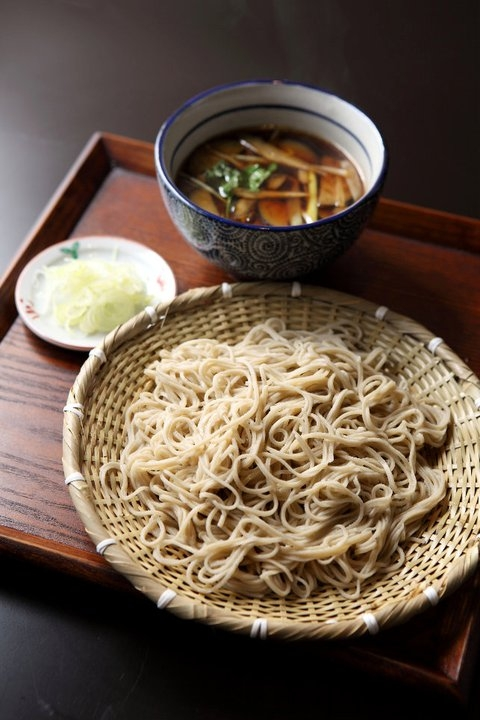Soba: (120, 324, 441, 611)
